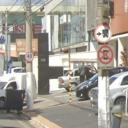speed_limit_40: (24, 51, 34, 63)
